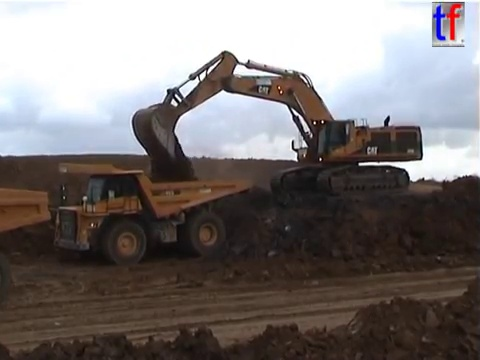excavator: (129, 49, 426, 200)
truck: (51, 159, 252, 266), (1, 182, 52, 300)
